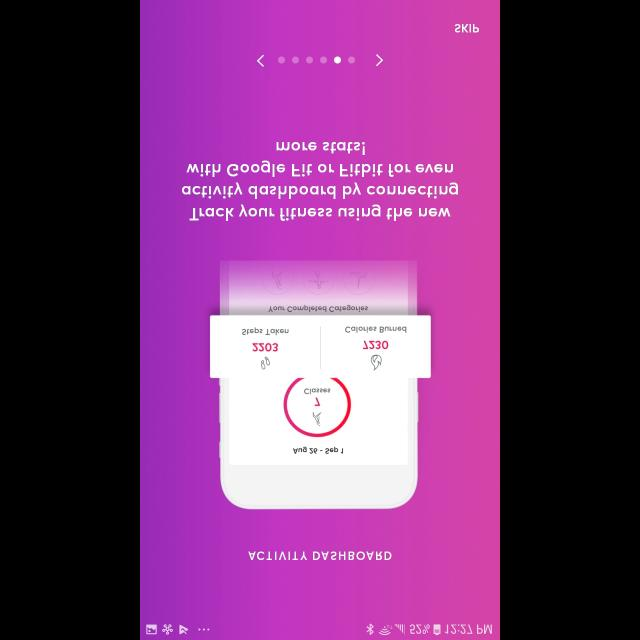icon: (376, 54, 384, 66), (258, 55, 264, 67)
image: (210, 259, 432, 509)
pageindicator: (277, 56, 355, 64)
text: (182, 141, 458, 221), (248, 550, 392, 560), (455, 23, 479, 32)
uppertaskbar: (140, 622, 500, 640)
